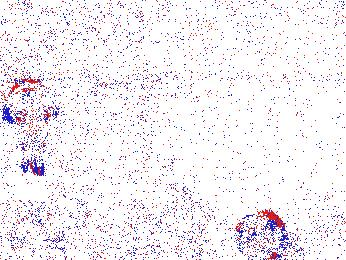flame jellyfish: (4, 81, 61, 175), (236, 211, 301, 260), (36, 192, 89, 245), (2, 192, 38, 247)
